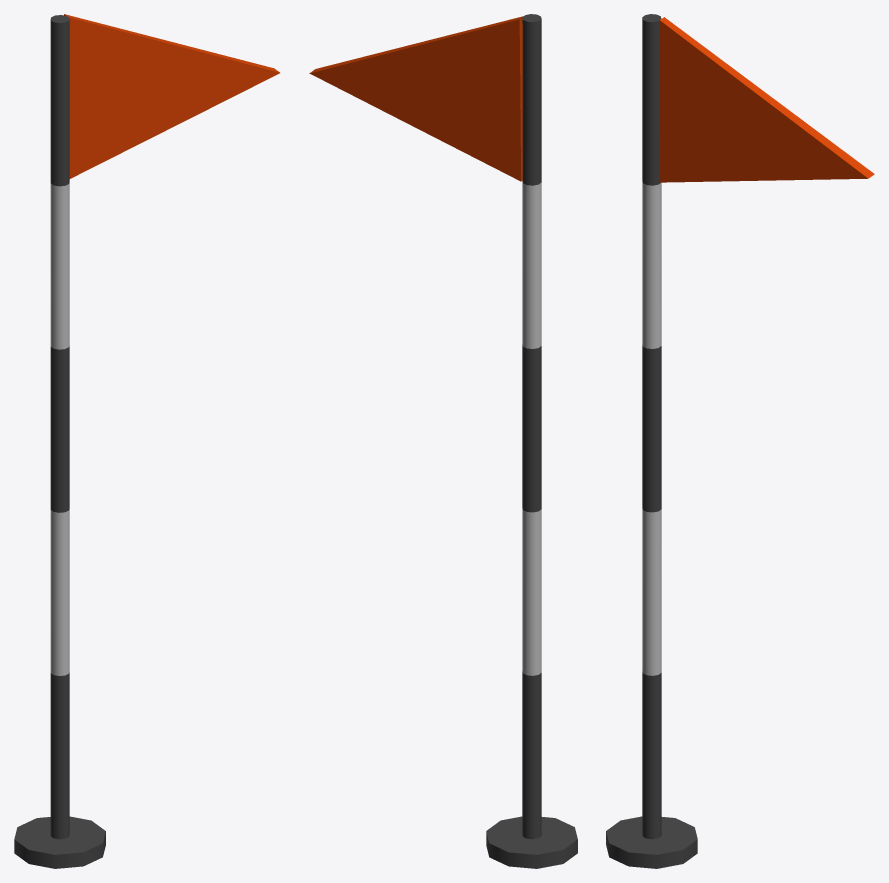
Rendered from Red Flag.fbx.
3 views of the same model, side by side, from view 1: azimuth 30°, elevation 25°; view 2: azimuth 150°, elevation 25°; view 3: azimuth 330°, elevation 25° (orthographic).
Visible parts, largest first — view 1: Red Flag; view 2: Red Flag; view 3: Red Flag.
Part boxes in pixels (x1,y1,x2,y2): Red Flag: (14, 14, 279, 868); Red Flag: (309, 14, 577, 868); Red Flag: (606, 14, 874, 868).
Bounding box in the file's own units: 0.303 × 0.9353 × 0.0956.
